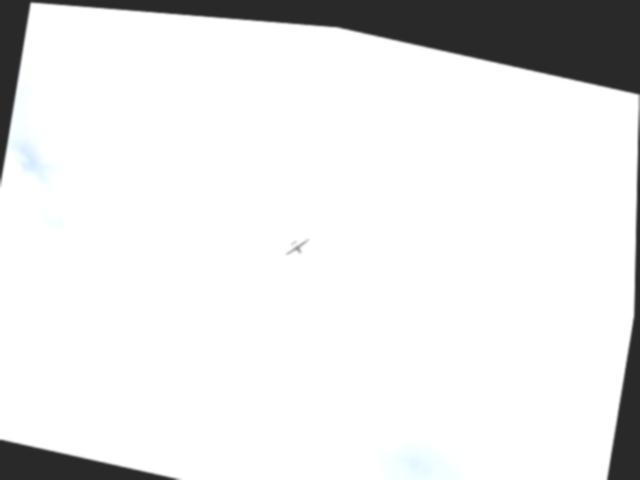uav: (284, 224, 312, 258)
